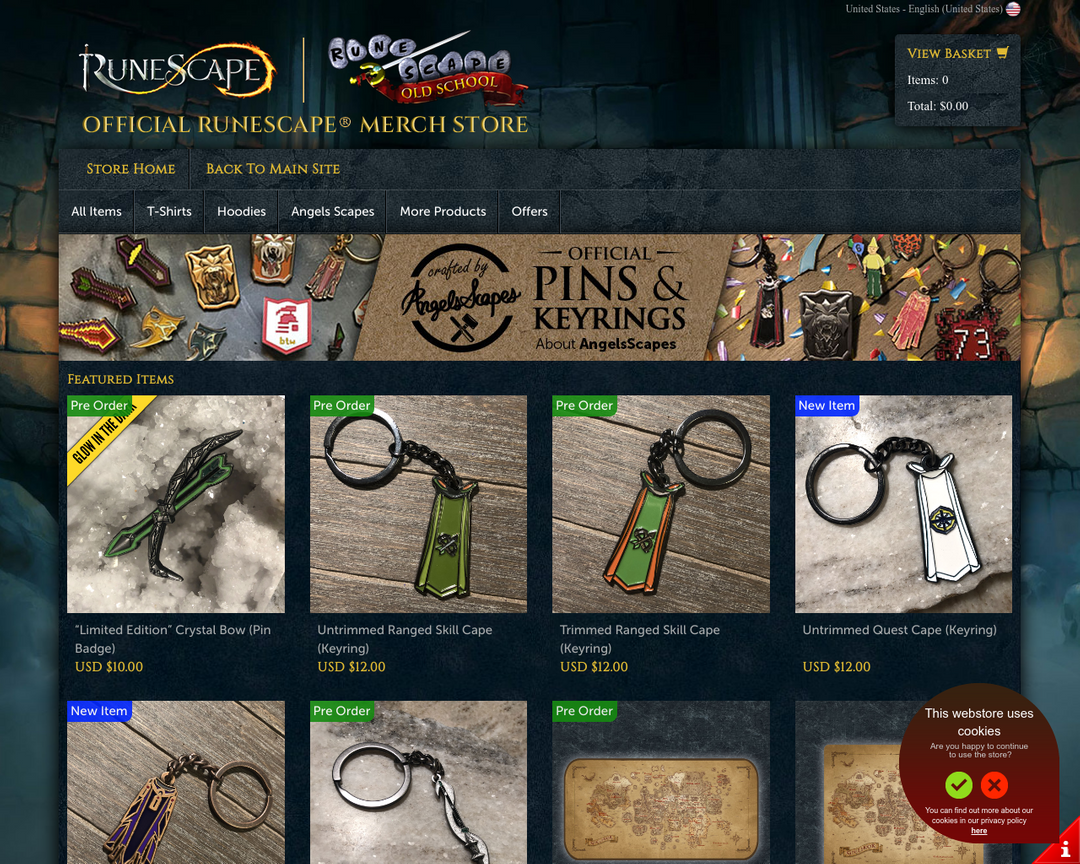Runescape: (318, 32, 528, 113), (74, 37, 279, 108)
